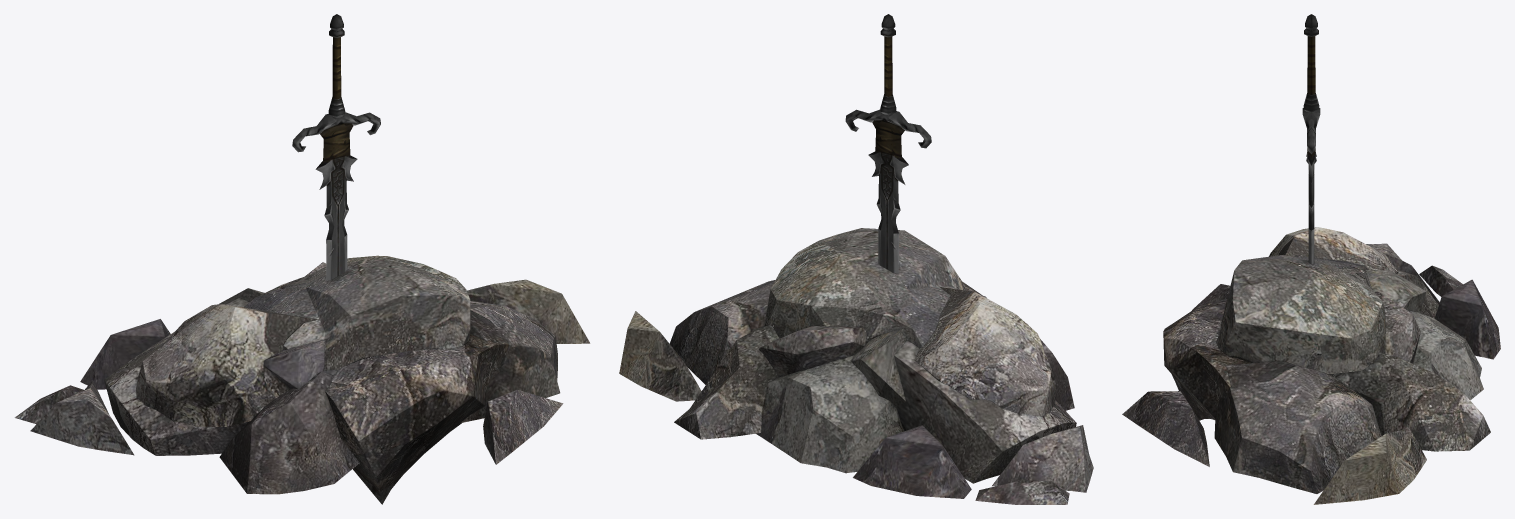
File: swordinstone.obj
The picture shows the model from 3 angles, left to right: view 1: azimuth 30°, elevation 25°; view 2: azimuth 150°, elevation 25°; view 3: azimuth 270°, elevation 25°; orthographic projection. The views are drawn at different scales.
Parts seen in each view (by area): view 1: LP_B_Rocks_04:B_Rocks_03, altsword:Sword07_el1, altsword:Sword07_el3, altsword:Sword07_el2; view 2: LP_B_Rocks_04:B_Rocks_03, altsword:Sword07_el1, altsword:Sword07_el3, altsword:Sword07_el2; view 3: LP_B_Rocks_04:B_Rocks_03, altsword:Sword07_el3, altsword:Sword07_el1, altsword:Sword07_el2.
Boxes of the visible parts, <box> form: LP_B_Rocks_04:B_Rocks_03: <box>14,255,590,504</box>; altsword:Sword07_el1: <box>315,123,357,281</box>; altsword:Sword07_el3: <box>328,14,345,117</box>; altsword:Sword07_el2: <box>292,112,380,152</box>; LP_B_Rocks_04:B_Rocks_03: <box>619,228,1093,504</box>; altsword:Sword07_el1: <box>868,120,908,273</box>; altsword:Sword07_el3: <box>880,14,896,115</box>; altsword:Sword07_el2: <box>845,109,931,148</box>; LP_B_Rocks_04:B_Rocks_03: <box>1122,227,1500,504</box>; altsword:Sword07_el3: <box>1303,14,1319,112</box>; altsword:Sword07_el1: <box>1306,148,1316,264</box>; altsword:Sword07_el2: <box>1302,108,1320,153</box>.
Size of the model in its own units: 115 by 94.77 by 77.66.
4 materials, 4 textured.
